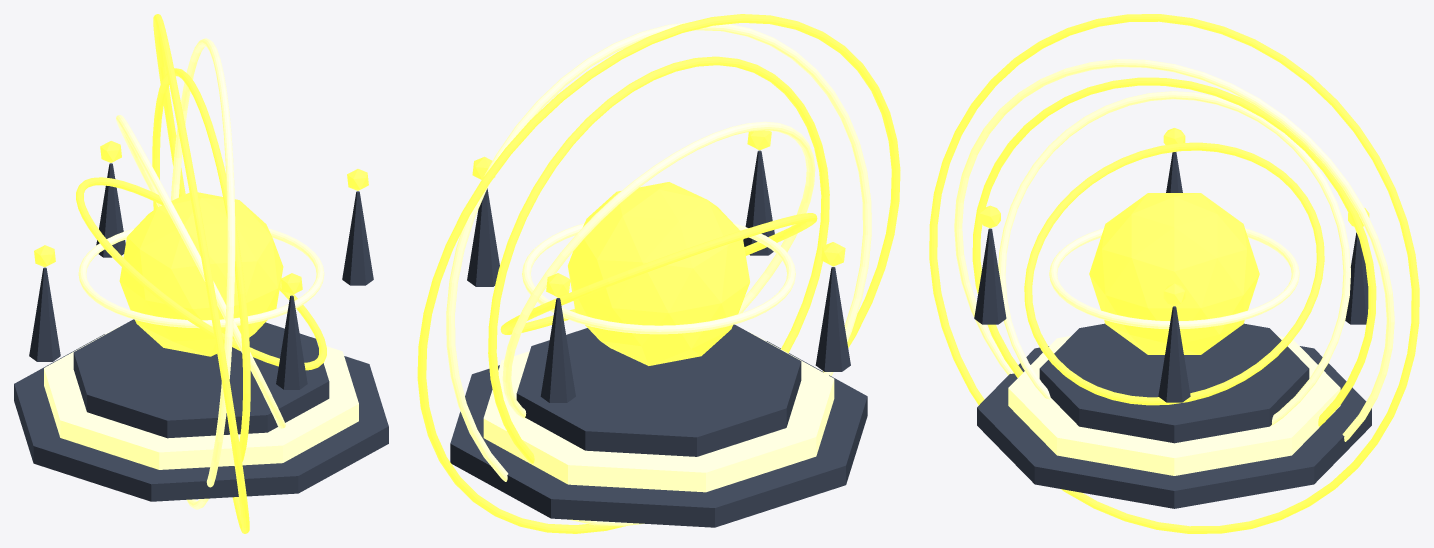
File: gpu-blender-v34.glb
3 renders of one model, left to right at view 1: azimuth 30°, elevation 25°; view 2: azimuth 150°, elevation 25°; view 3: azimuth 270°, elevation 25°, orthographic. The views are drawn at different scales.
Visible parts, largest first — view 1: Cylinder.002, Cylinder, SovereignCore_shodan-surface-sentinel, Cylinder.001, Torus.005, Torus.004, Torus.003, Torus.001, Torus, Torus.002, Cone, Cone.003 (+2 smaller); view 2: Cylinder.002, SovereignCore_shodan-surface-sentinel, Cylinder, Cylinder.001, Torus.005, Torus.004, Torus.003, Torus.002, Torus, Torus.001, Cone.002, Cone.001 (+2 smaller); view 3: SovereignCore_shodan-surface-sentinel, Cylinder.002, Cylinder, Cylinder.001, Torus.005, Torus.004, Torus.001, Torus.002, Torus.003, Torus, Cone, Cone.003 (+1 smaller).
Boxes of the visible parts, <box> form: Cylinder.002: <box>73,319,329,438</box>; Cylinder: <box>14,334,388,501</box>; SovereignCore_shodan-surface-sentinel: <box>119,192,283,356</box>; Cylinder.001: <box>44,326,358,469</box>; Torus.005: <box>153,14,249,533</box>; Torus.004: <box>171,38,235,509</box>; Torus.003: <box>152,68,250,461</box>; Torus.001: <box>76,177,326,370</box>; Torus: <box>78,228,324,328</box>; Torus.002: <box>116,115,285,428</box>; Cone: <box>342,191,373,285</box>; Cone.003: <box>276,295,307,389</box>; Cylinder.002: <box>516,324,801,456</box>; SovereignCore_shodan-surface-sentinel: <box>568,182,749,365</box>; Cylinder: <box>450,341,867,527</box>; Cylinder.001: <box>483,332,834,492</box>; Torus.005: <box>417,14,900,533</box>; Torus.004: <box>446,22,871,526</box>; Torus.003: <box>488,56,829,463</box>; Torus.002: <box>502,121,815,418</box>; Torus: <box>522,223,795,334</box>; Torus.001: <box>500,213,817,334</box>; Cone.002: <box>815,267,850,371</box>; Cone.001: <box>540,298,575,402</box>; SovereignCore_shodan-surface-sentinel: <box>1089,193,1259,354</box>; Cylinder.002: <box>1039,323,1309,443</box>; Cylinder: <box>977,346,1371,508</box>; Cylinder.001: <box>1008,336,1340,475</box>; Torus.005: <box>929,14,1419,533</box>; Torus.004: <box>954,59,1394,441</box>; Torus.001: <box>1024,142,1324,405</box>; Torus.002: <box>998,91,1350,425</box>; Torus.003: <box>972,77,1376,426</box>; Torus: <box>1049,228,1299,328</box>; Cone: <box>1158,306,1190,402</box>; Cone.003: <box>974,228,1006,324</box>.
Bounding box in the file's own units: 4.41 × 5.93 × 5.46.
